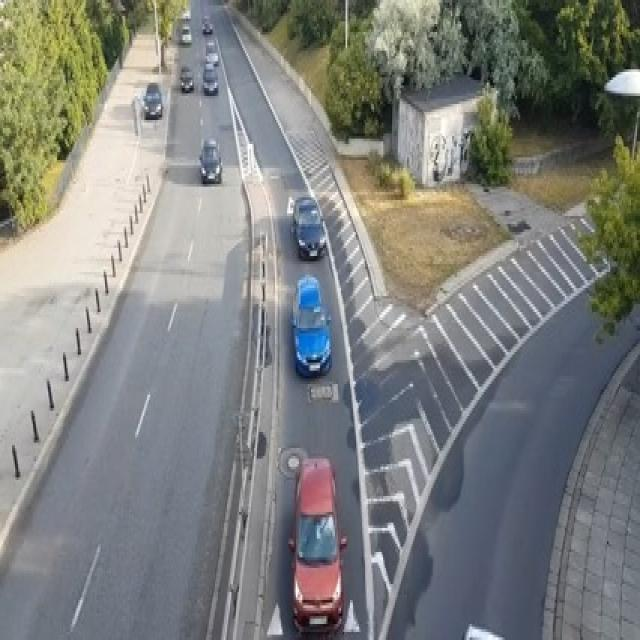car: (287, 453, 347, 635), (290, 275, 332, 376), (285, 194, 326, 258), (198, 136, 222, 184), (141, 83, 162, 117), (461, 624, 505, 637), (201, 62, 218, 94), (179, 64, 194, 91), (204, 37, 218, 64), (180, 21, 191, 43), (201, 13, 212, 32), (182, 8, 191, 19)
